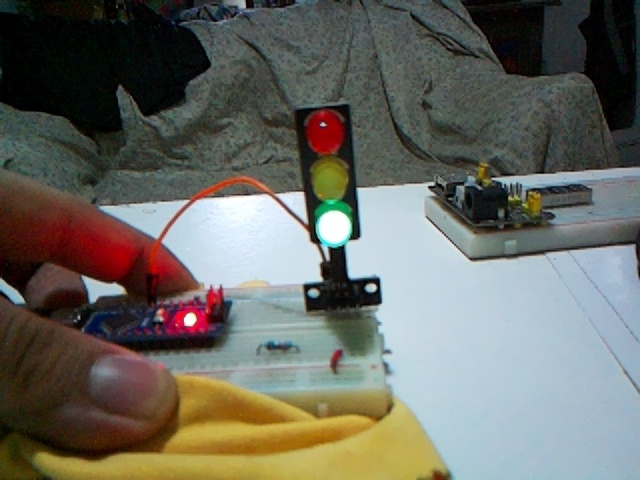traffic_light_green: (295, 104, 360, 248)
